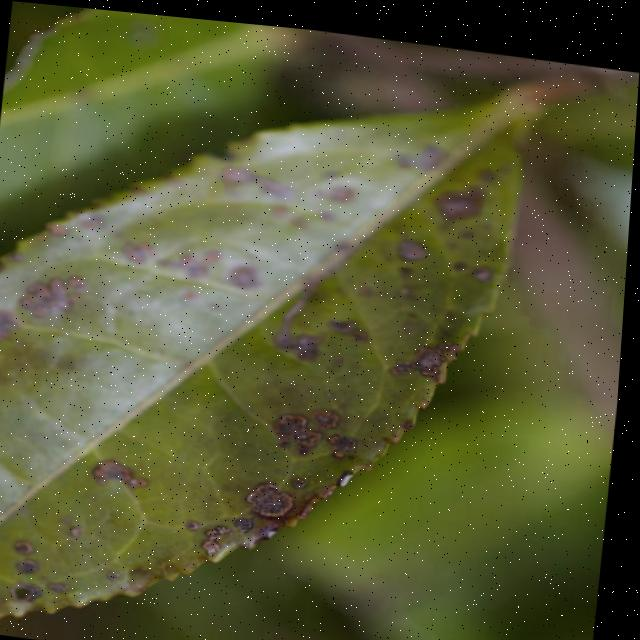Tea red rust: (21, 63, 511, 640)
